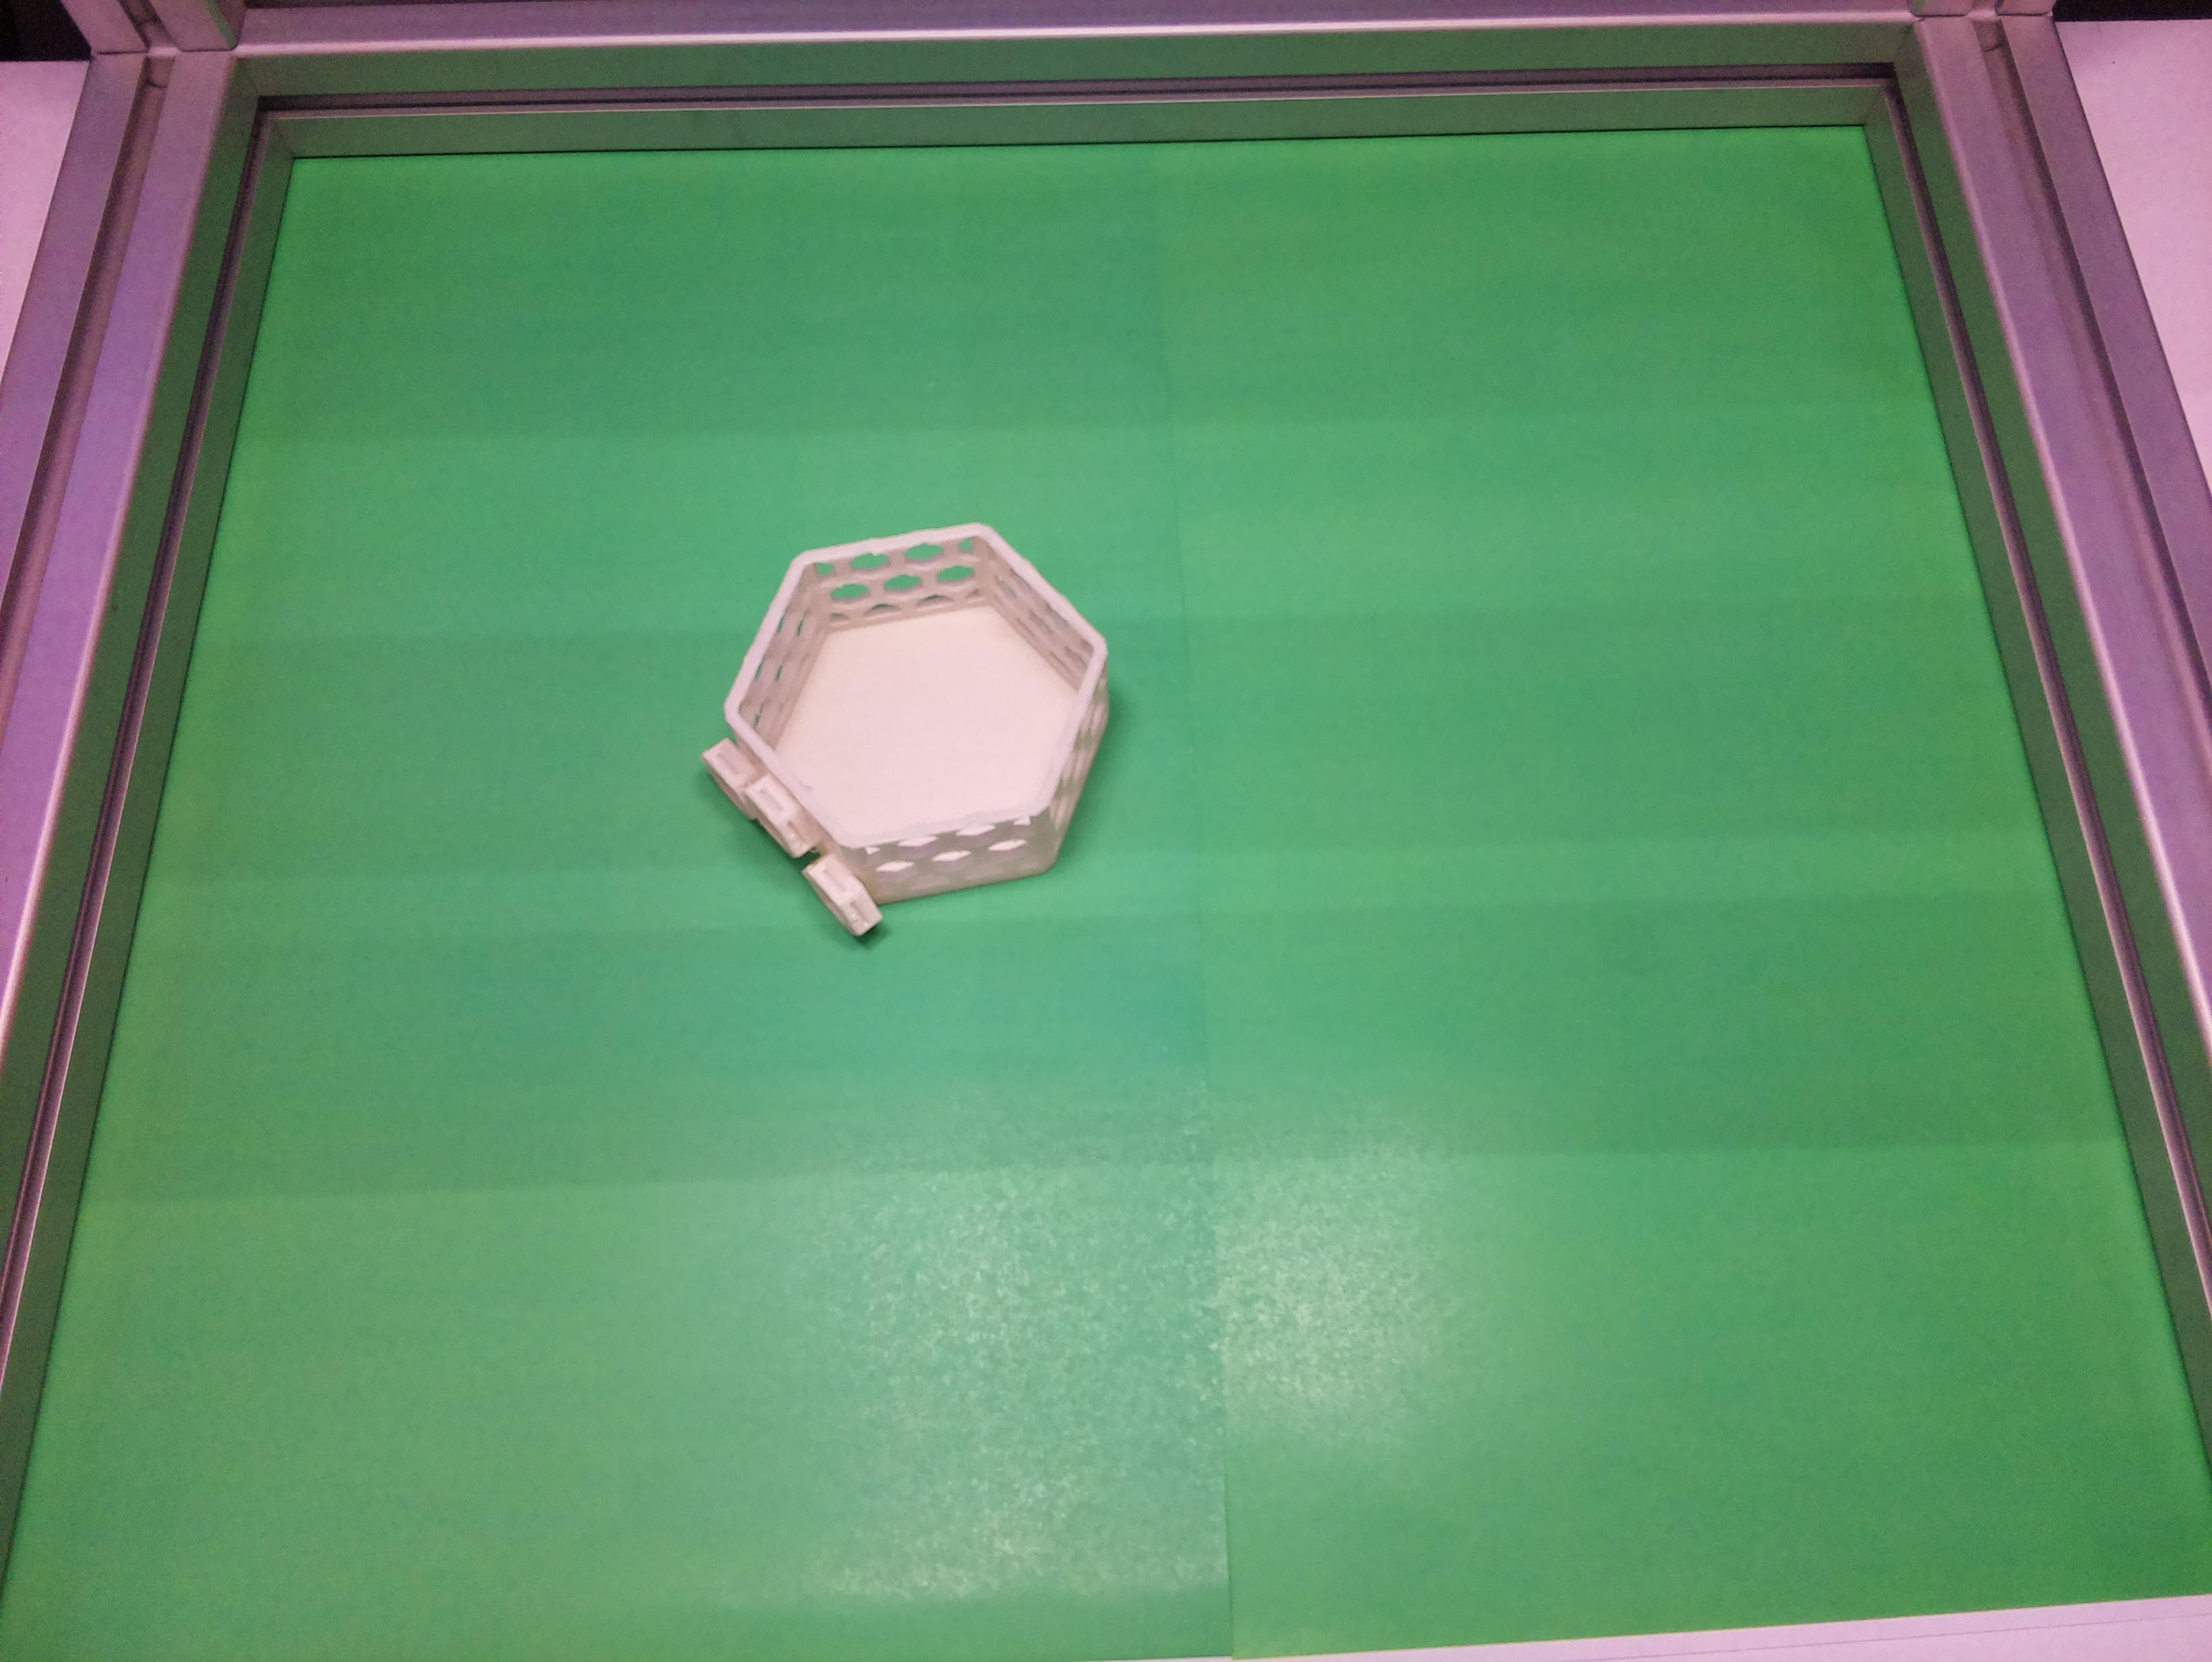bottle_holder: (635, 445, 1191, 1000)
